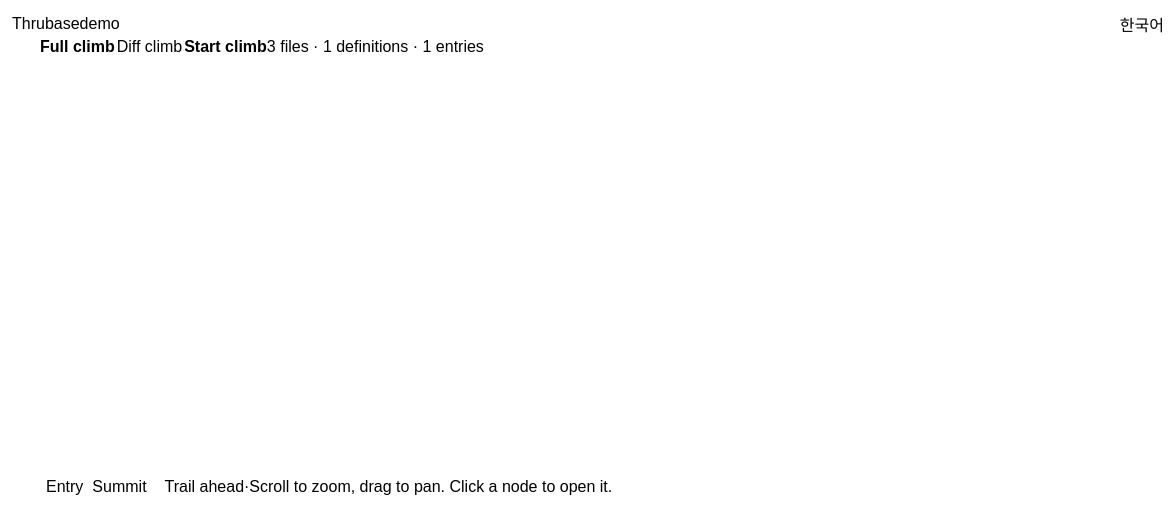
App › switches between English and Korean
The width and height of the screenshot is (1176, 516).
Expected: the button "Start climb" is shown, [184,38,267,56]
Click the button with aria-label "Language" at (1142,24), box [1120,12,1164,36]
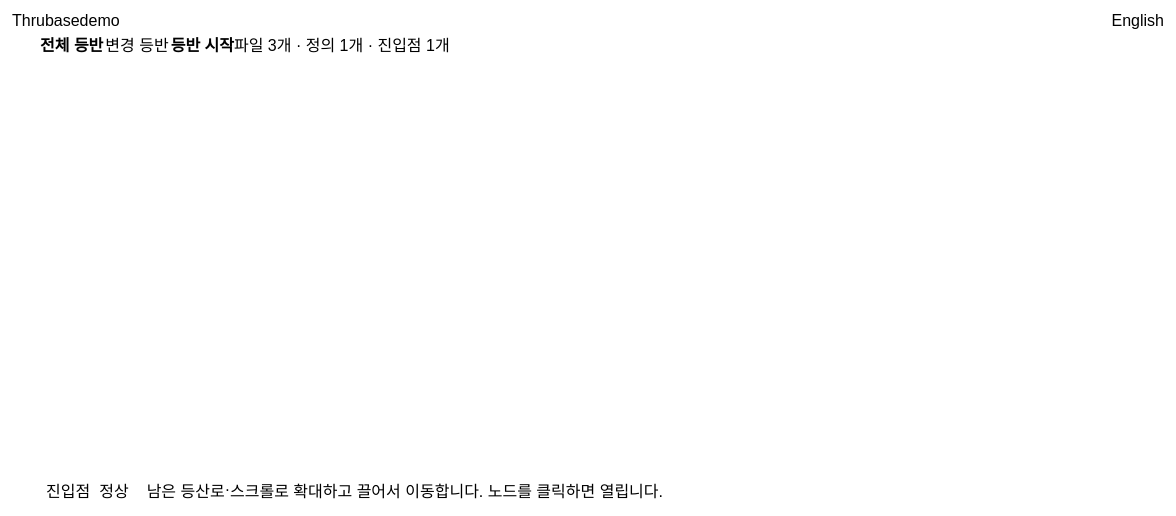
Now the button "등반 시작" is shown, box [171,32,234,56]
Now the tab "변경 등반" is shown, box [105,32,169,56]
